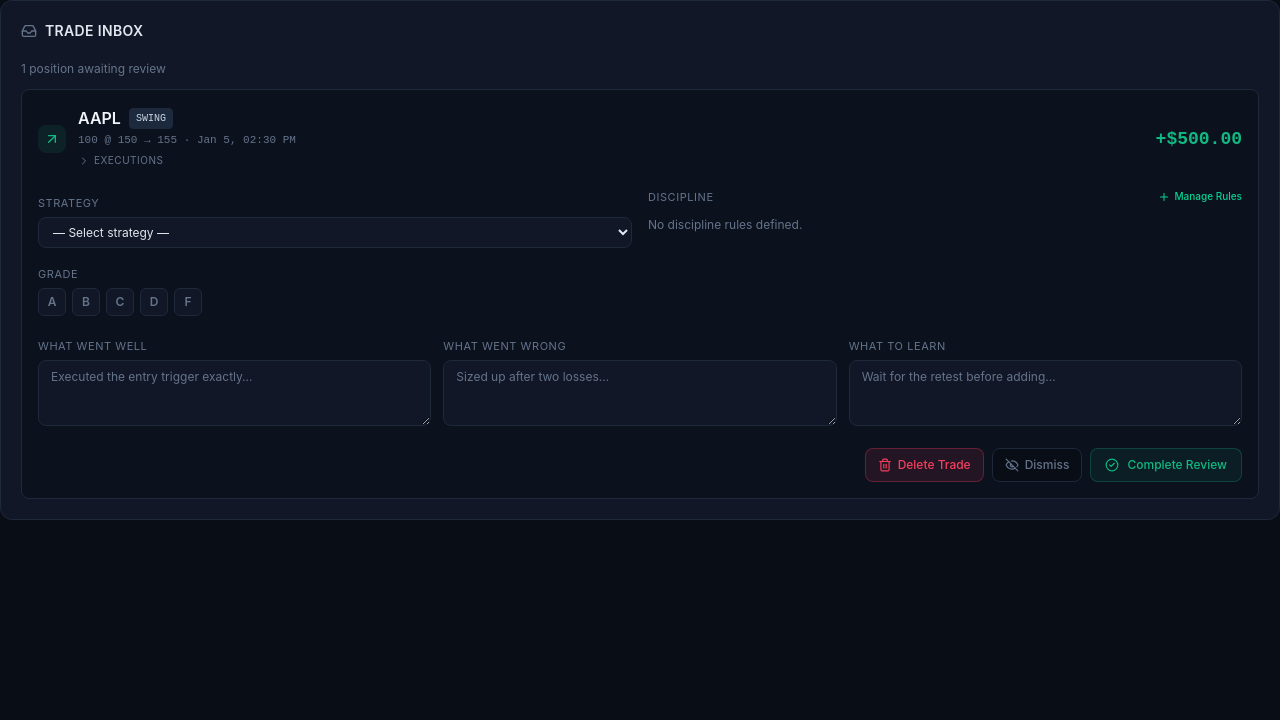
Scenario: checklist filtering › never shows another strategy's rules
Check: the text "1 position awaiting review" is shown, box [21,61,166,76]
Select "Momentum Breakout" in the dropdown at coordinates (335, 232), box [38,216,632,248]
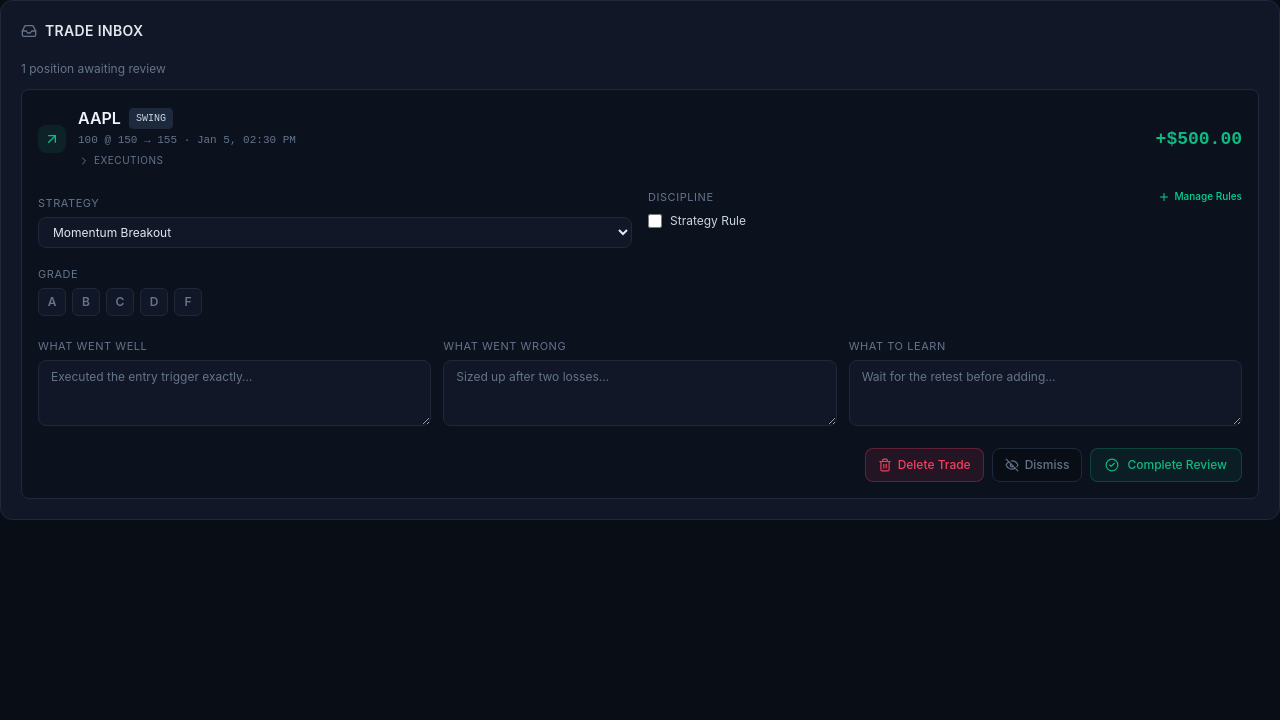
Check: the checkbox labelled "Strategy Rule" is shown, box [648,214,662,228]
